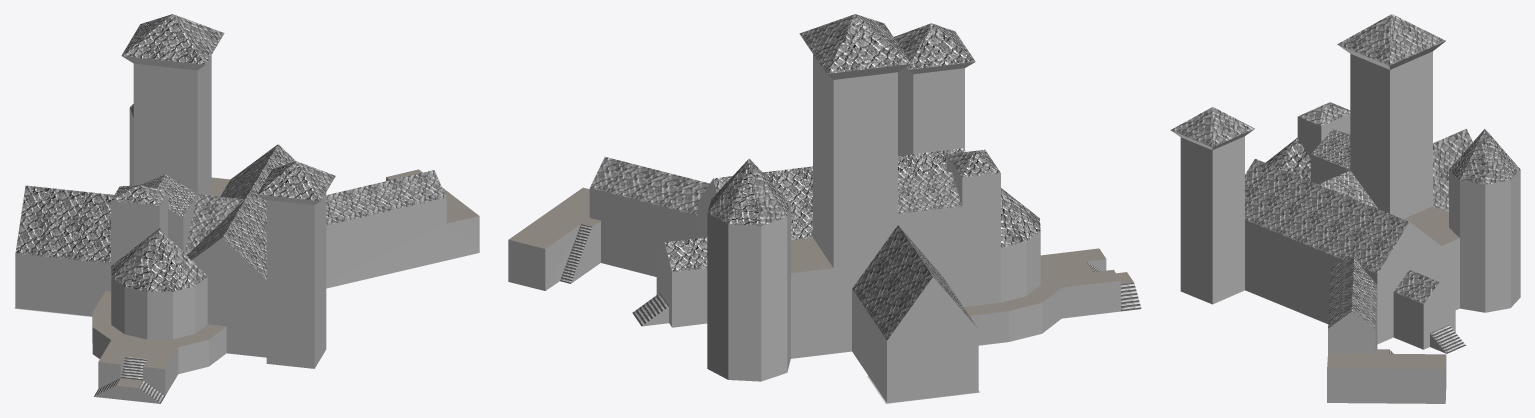
The model's file is church.obj.
3 renders of one model, left to right at view 1: azimuth 30°, elevation 25°; view 2: azimuth 150°, elevation 25°; view 3: azimuth 270°, elevation 25°, orthographic. The views are drawn at different scales.
Parts seen in each view (by area): view 1: untitled.002_untitled.010; view 2: untitled.002_untitled.010; view 3: untitled.002_untitled.010.
Part boxes in pixels (left/top/right/bottom): untitled.002_untitled.010: left=14, top=14, right=479, bottom=403; untitled.002_untitled.010: left=508, top=14, right=1141, bottom=403; untitled.002_untitled.010: left=1170, top=14, right=1520, bottom=403.
Size of the model in its own units: 297 by 181 by 218.
